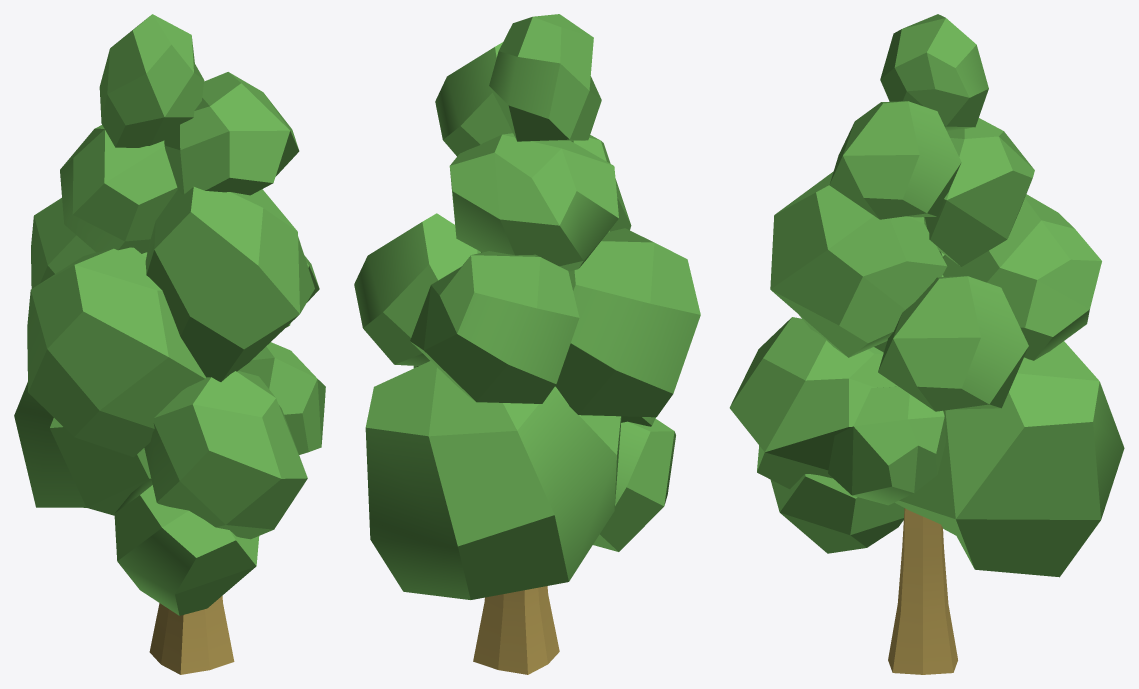
File: tree_3.fbx
3 renders of one model, left to right at view 1: azimuth 30°, elevation 25°; view 2: azimuth 150°, elevation 25°; view 3: azimuth 270°, elevation 25°, orthographic. The views are drawn at different scales.
Parts seen in each view (by area): view 1: Trees:pPlane113; view 2: Trees:pPlane113; view 3: Trees:pPlane113.
Boxes of the visible parts, x1,y1,x2,y2 form: Trees:pPlane113: (14,14,325,674); Trees:pPlane113: (354,14,700,674); Trees:pPlane113: (729,14,1124,674).
Size of the model in its own units: 145 by 294 by 167.
